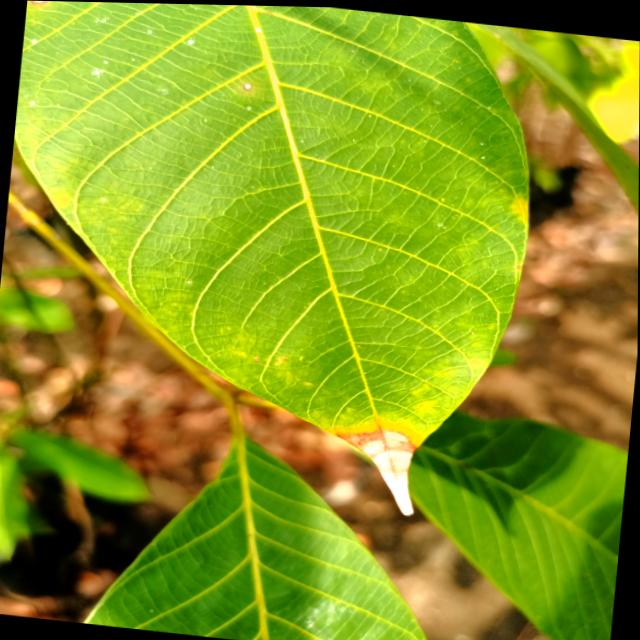Colletotrichum: (29, 1, 48, 5), (243, 81, 252, 89)
Leaf-Blight: (330, 420, 422, 514)
